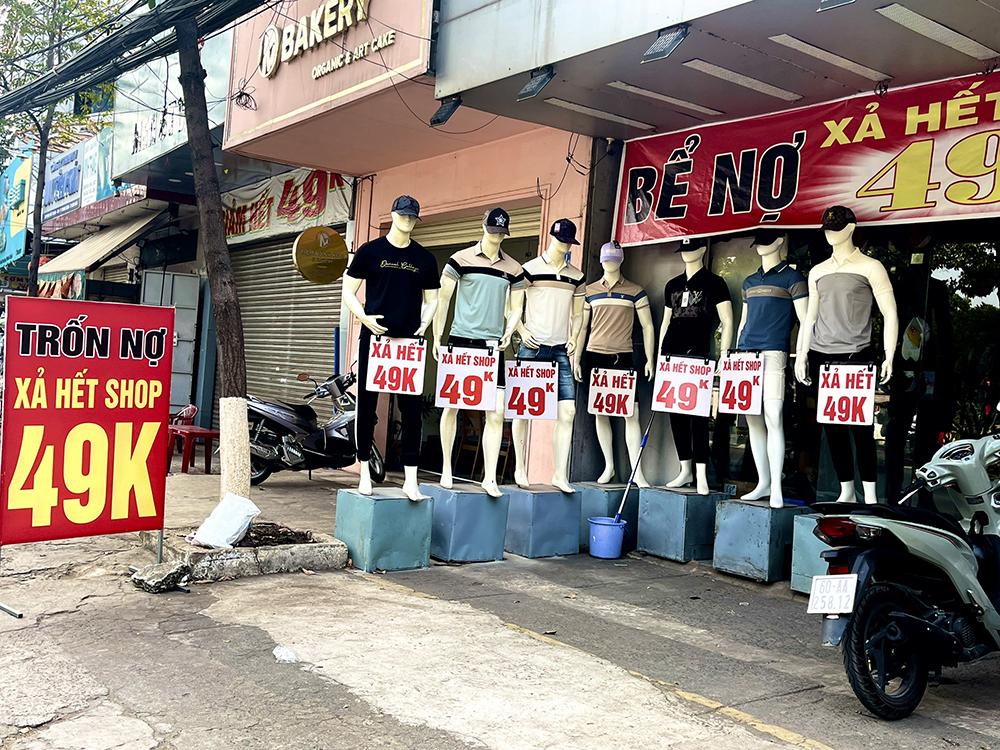bien_so: (805, 571, 861, 618)
